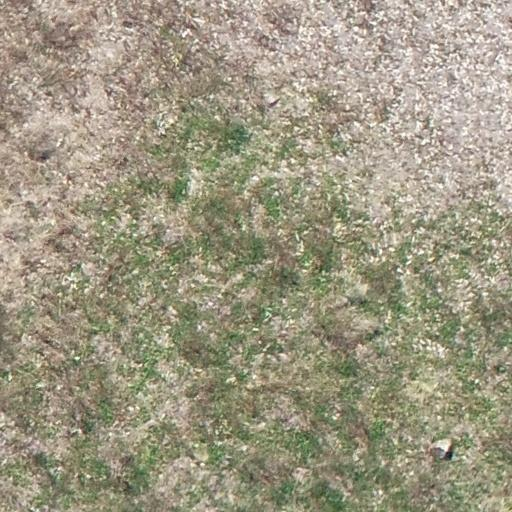stone: (424, 436, 454, 462), (416, 337, 448, 359), (291, 465, 311, 484), (247, 173, 261, 187), (277, 351, 290, 363), (103, 86, 114, 99), (156, 122, 166, 136), (168, 304, 178, 316), (225, 375, 237, 385), (55, 136, 64, 148), (180, 28, 190, 38), (332, 412, 341, 420), (73, 355, 81, 362), (127, 405, 135, 412), (50, 218, 57, 226), (473, 378, 480, 386), (199, 461, 205, 468)
